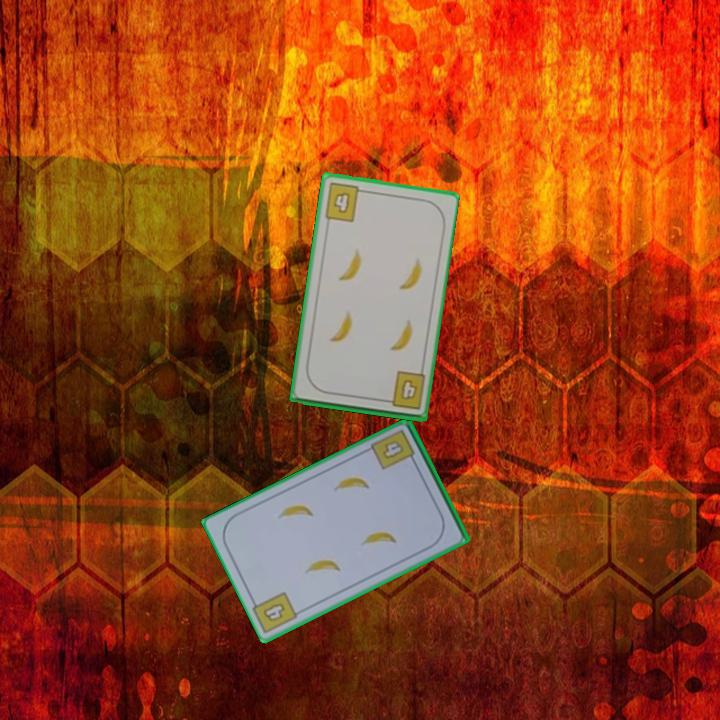4b: (368, 426, 419, 473), (321, 179, 369, 225), (380, 368, 428, 413), (259, 599, 288, 625)
